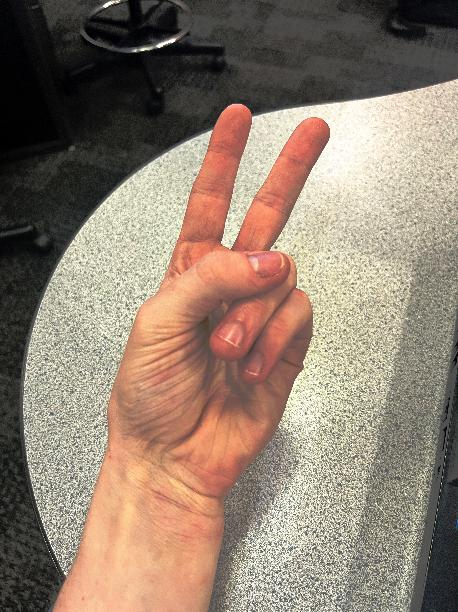Scissors: (84, 85, 365, 519)
